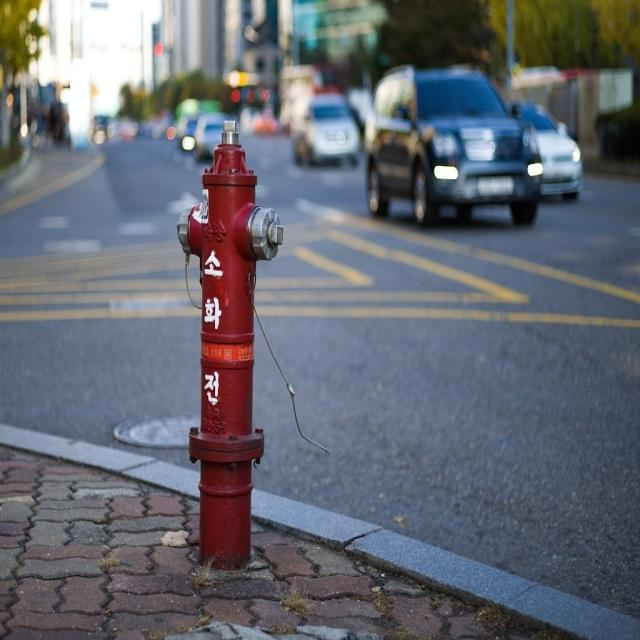fire_hydrant: (169, 96, 298, 603)
